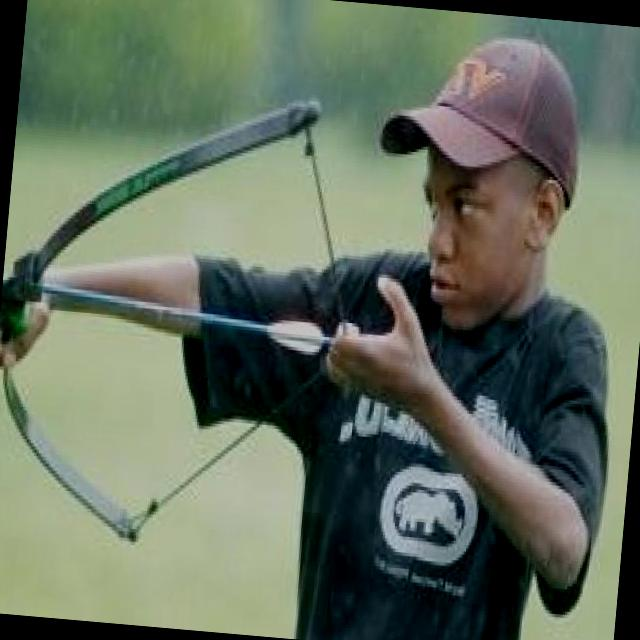no_vest: (274, 261, 619, 640)
